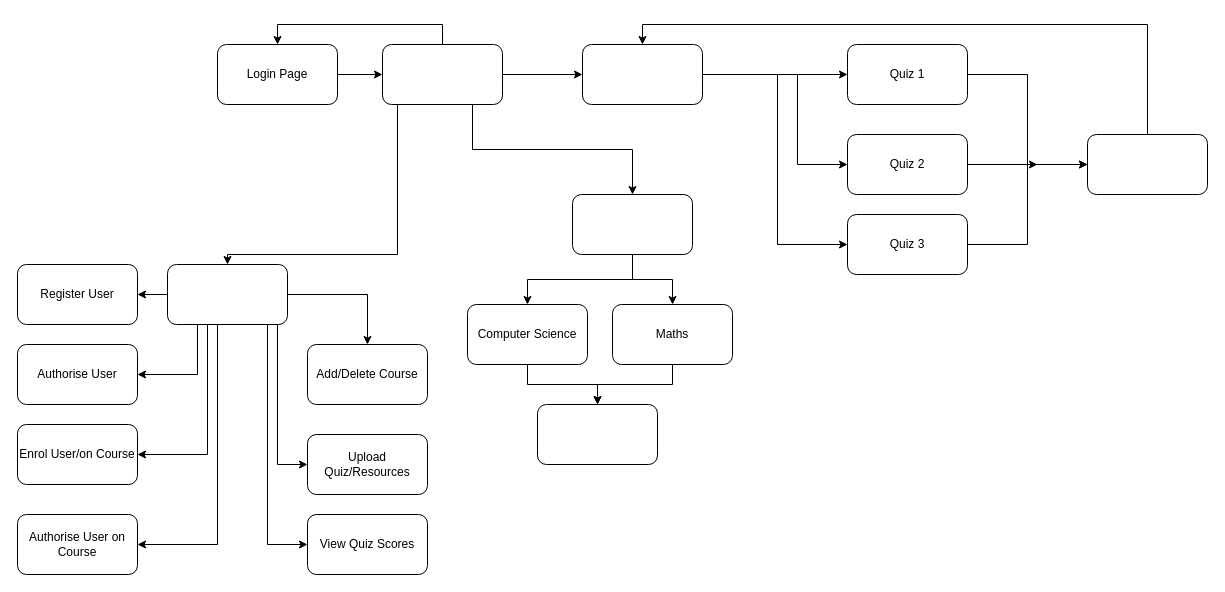
Image size: 1225x592. Some labels were removed from this diagram. The shapes that lost their labels are listed below. From the top down, each one's centre as x and y in pixels, then its label:
(x=442, y=74): Index Page
(x=642, y=74): Quizzes
(x=1147, y=164): Finish Quiz
(x=632, y=224): Courses Page
(x=227, y=294): Student / Teacher / Admin Page
(x=597, y=434): View / Download resources
